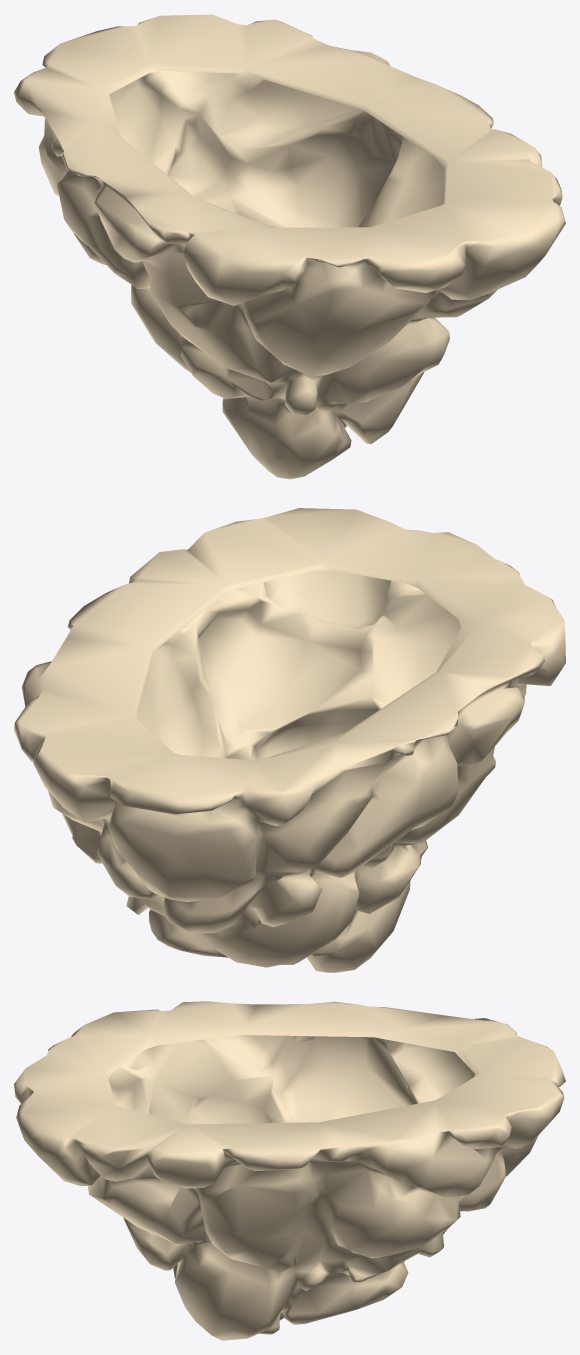
The model's file is island_1_LOD4.fbx.
3 views of the same model, one above another, from view 1: azimuth 30°, elevation 25°; view 2: azimuth 150°, elevation 25°; view 3: azimuth 270°, elevation 25° (orthographic). The views are drawn at different scales.
Visible parts, largest first — view 1: island_1_LOD3; view 2: island_1_LOD3; view 3: island_1_LOD3.
Part boxes in pixels (box(x1,y1,x2,y2)): island_1_LOD3: box(14, 14, 565, 479); island_1_LOD3: box(14, 508, 565, 972); island_1_LOD3: box(14, 1001, 565, 1340).
Size of the model in its own units: 2167 by 1694 by 3232.
